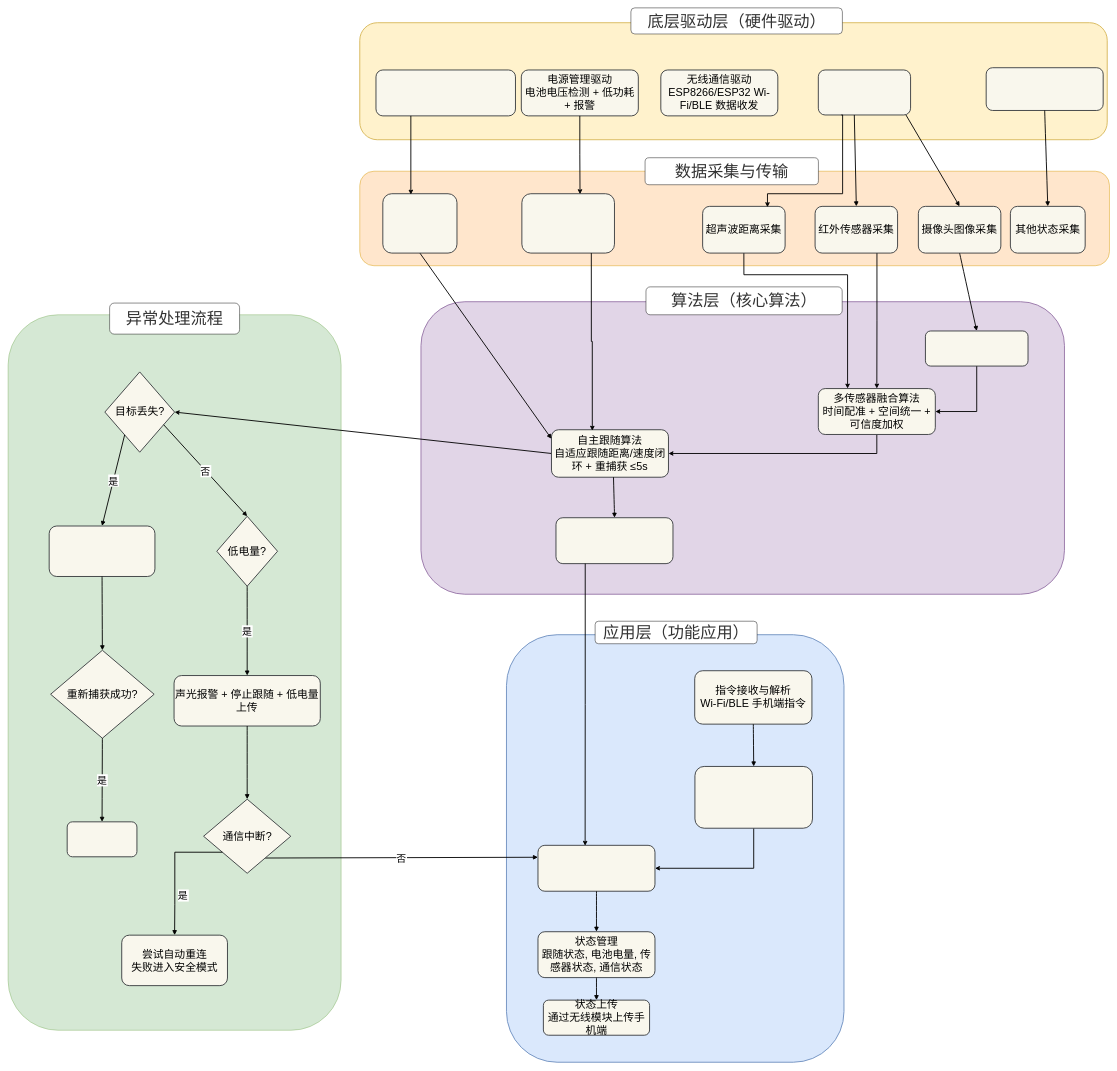
This 1117x1071 diagram has some shape labels left out. The shapes that lost their labels are listed below. From the top down, each one's centre as x and y in pixels, then its label:
At (445,92): "电机驱动 初始化 + PWM控制 + 编码器反馈".
At (864,92): "传感器驱动 摄像头/超声波/红外".
At (1044,89): "声光交互驱动 LED/扬声器控制".
At (419,223): "电机状态采集".
At (568,223): "电池电压/状态采集".
At (976,348): "目标识别算法 宠物轮廓识别/动态跟踪".
At (102,551): "启动扫描搜索模式 超声波 + 红外".
At (614,540): "动态避障算法 障碍物检测 + 避障策略 + 路径优化".
At (753,797): "指令类型判断 启动/停止跟随, 激光逗宠, 调整速度/距离".
At (102,839): "恢复跟随".
At (596,868): "功能执行 跟随控制, 激光/声光控制, 速度调整".
